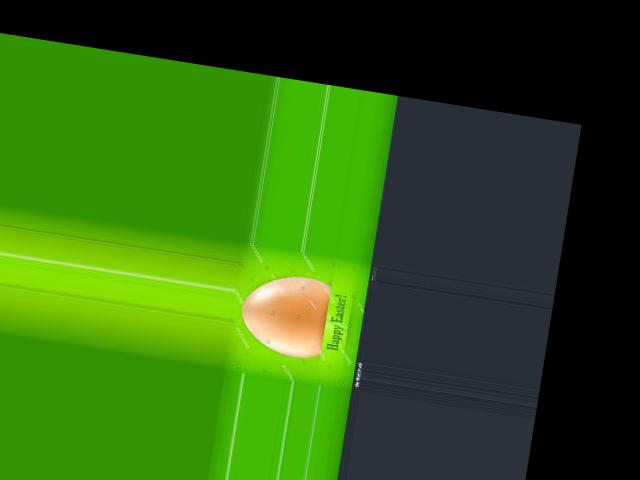egg: (236, 268, 331, 360)
